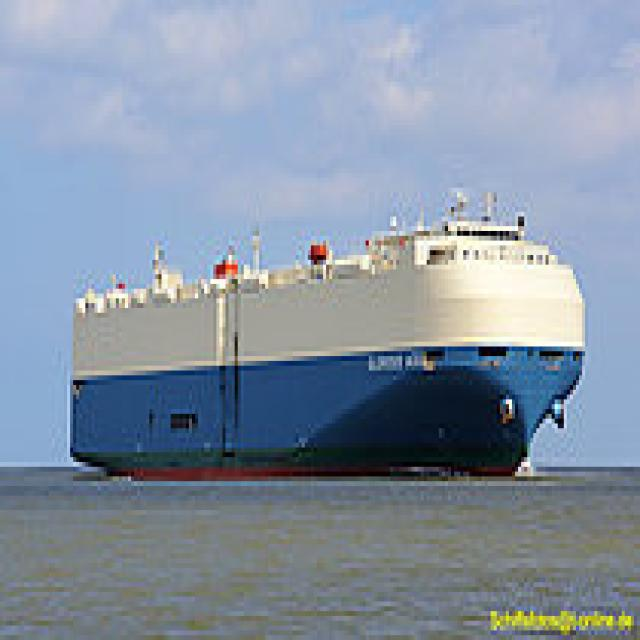Carrier: (64, 173, 585, 481)
